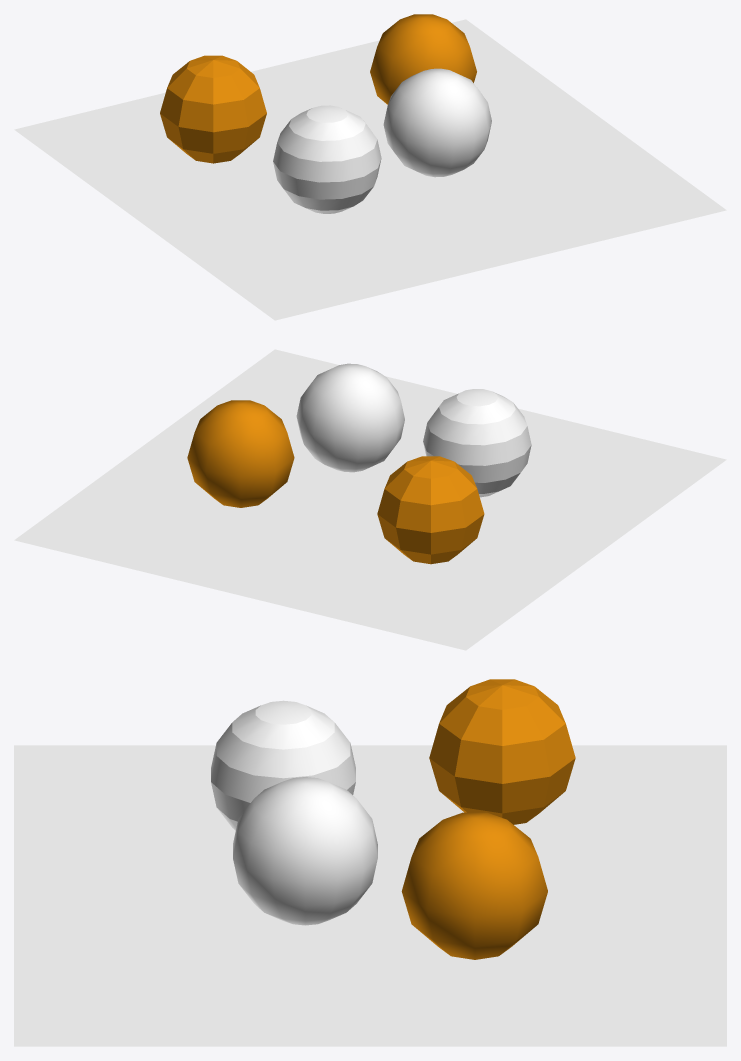
Rendered from two_spheres.obj.
3 views of the same model, one above another, from view 1: azimuth 30°, elevation 25°; view 2: azimuth 150°, elevation 25°; view 3: azimuth 270°, elevation 25° (orthographic). The views are drawn at different scales.
Bounding box in the file's own units: 2.4 × 0.5232 × 2.4.
3 materials, 3 textured.
